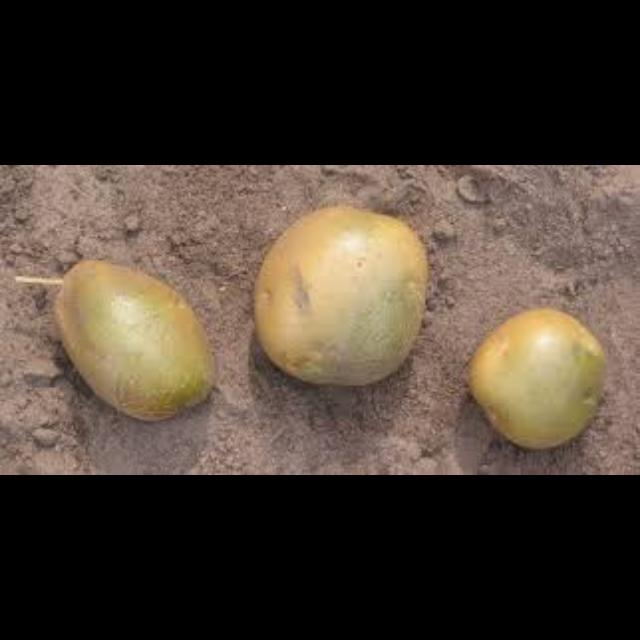Defected potato: (240, 196, 430, 398), (45, 262, 215, 428), (470, 296, 616, 452)
